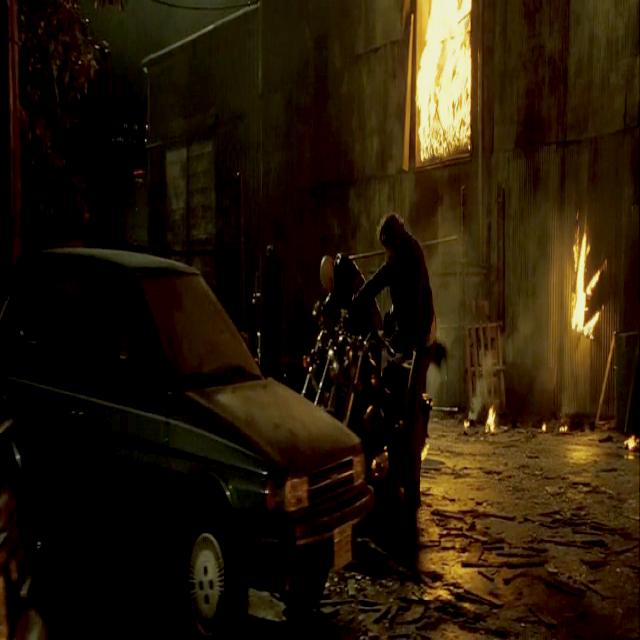Motorbike: (296, 297, 433, 524)
